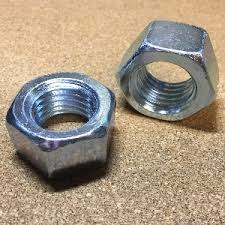Thread: (27, 80, 106, 137), (123, 62, 203, 115)
